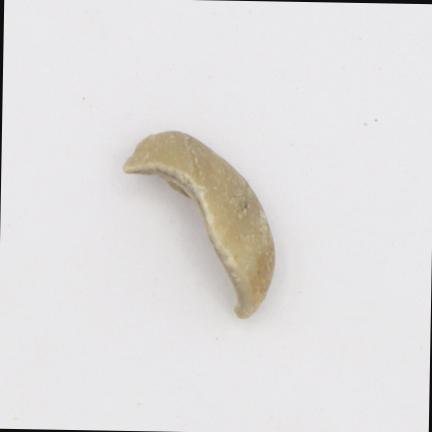shell: (123, 131, 274, 318)
